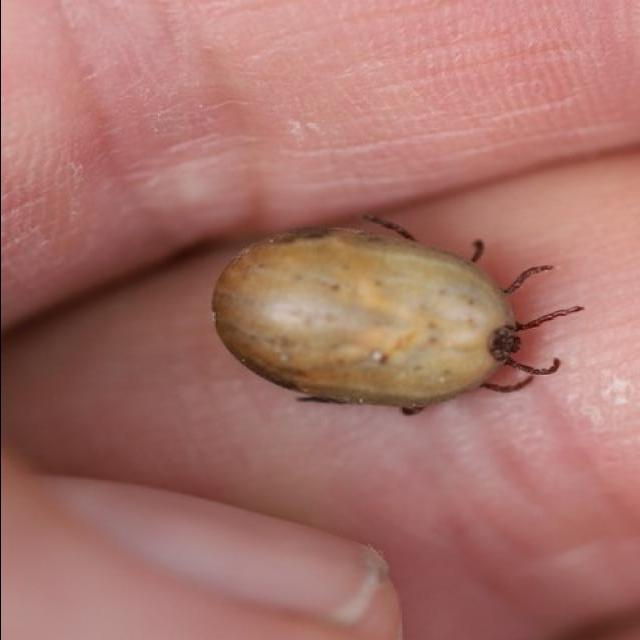Dermacentor Reticulatus-F-Fed: (212, 216, 585, 417)
